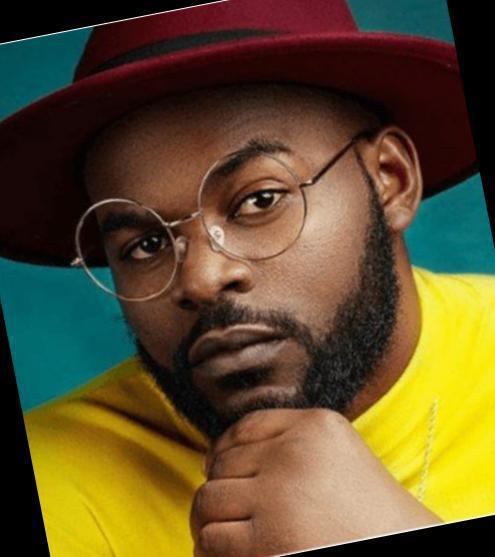Sober: (85, 133, 388, 389)
